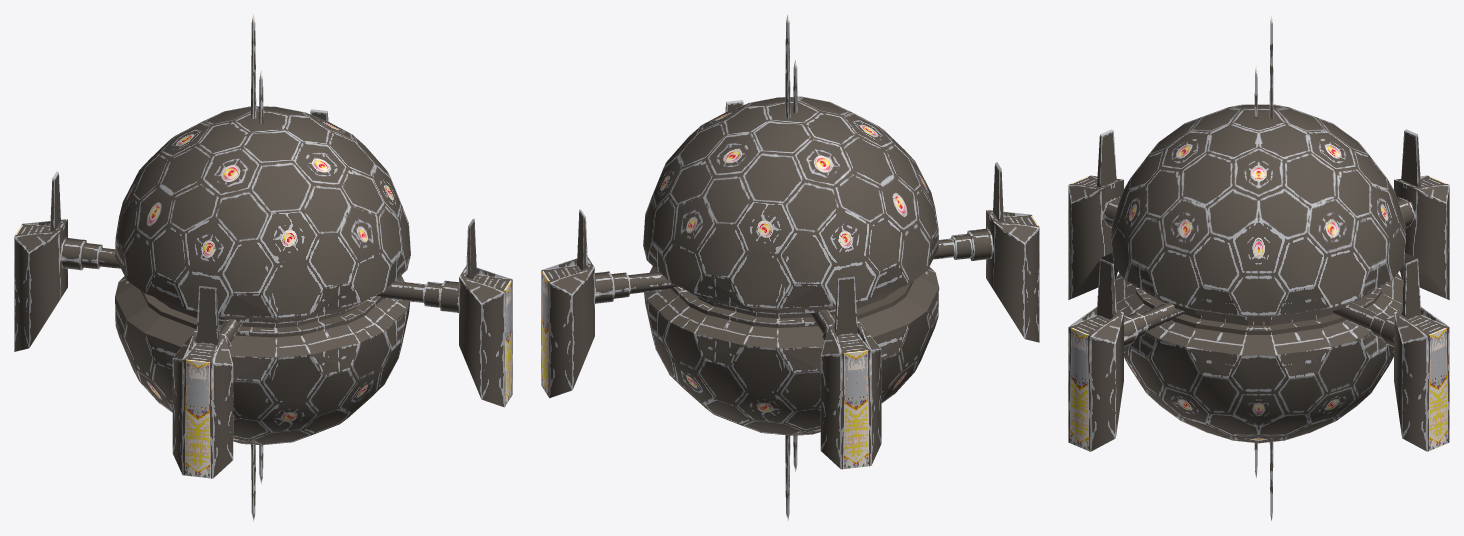
File: Beholder.FBX(1).fbx
The picture shows the model from 3 angles, left to right: view 1: azimuth 30°, elevation 25°; view 2: azimuth 150°, elevation 25°; view 3: azimuth 270°, elevation 25°; orthographic projection.
Parts seen in each view (by area): view 1: Beholder; view 2: Beholder; view 3: Beholder.
Part boxes in pixels (x1=…): Beholder: x1=14, y1=14, x2=512, y2=521; Beholder: x1=541, y1=14, x2=1039, y2=521; Beholder: x1=1068, y1=15, x2=1449, y2=520.
Size of the model in its own units: 272 by 400 by 272.
